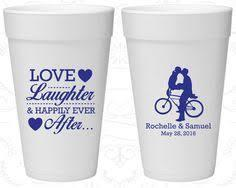Plastic cup: (0, 0, 125, 188), (120, 1, 230, 183)
